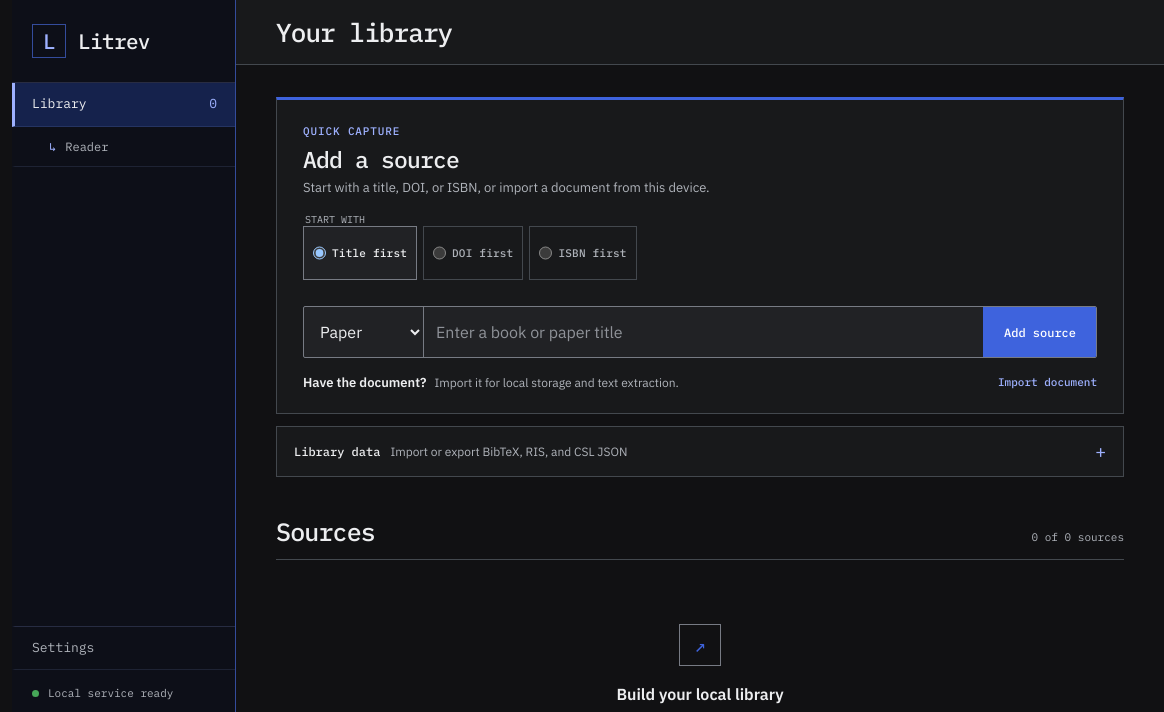
Test case: reports an empty library and returns focus to the export format
Check: the text "Local service ready" is shown, box left=32, top=686, right=173, bottom=700
Click the heading "Library data" at (461, 452), box left=294, top=444, right=628, bottom=459
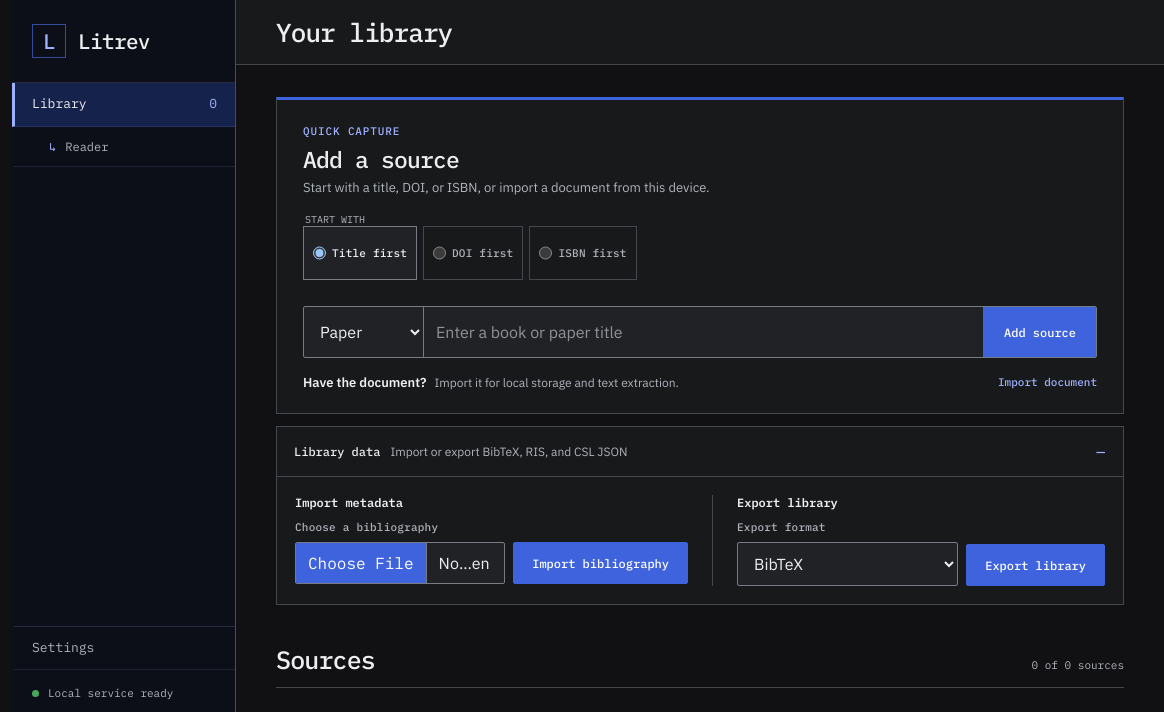
Click the button "Export library" at (1036, 565), box left=966, top=544, right=1105, bottom=586
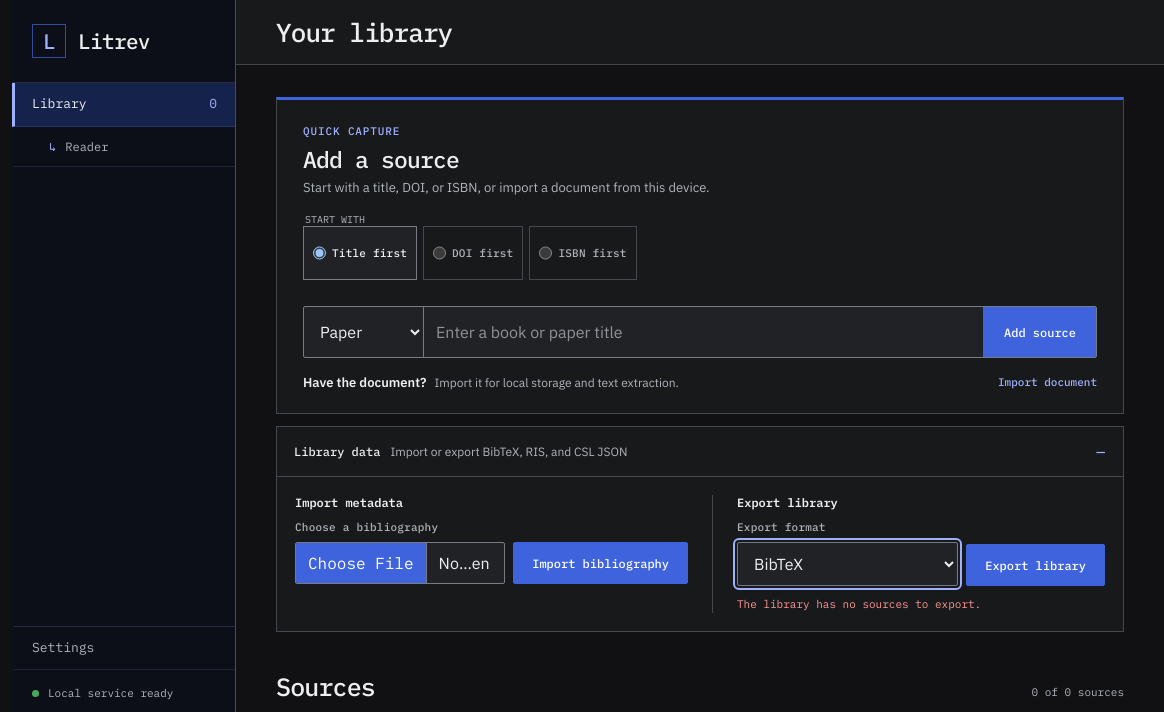
Check: the message "The library has no sources to export." is shown, box left=737, top=597, right=981, bottom=611
